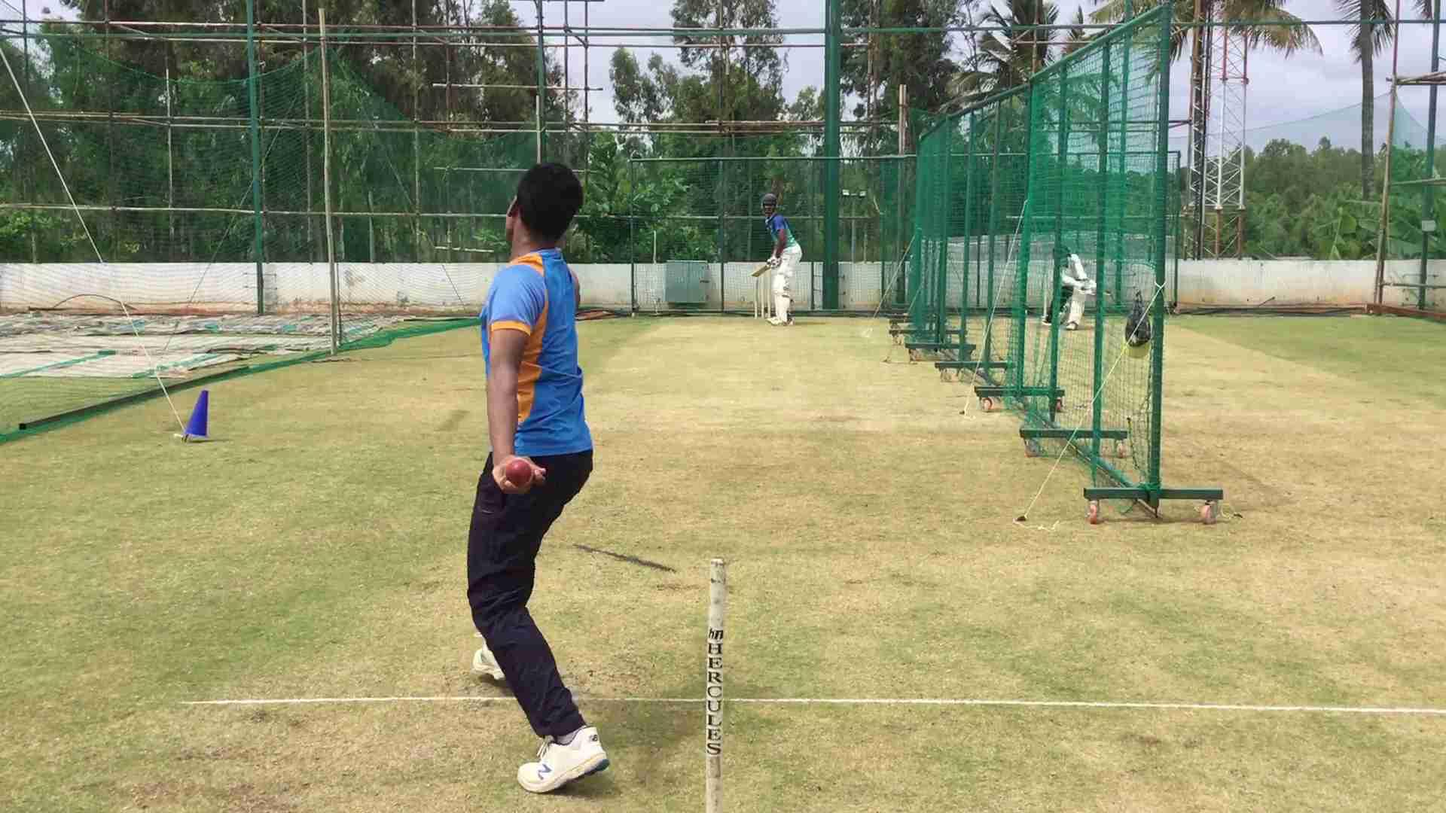batsman: (755, 186, 808, 327)
